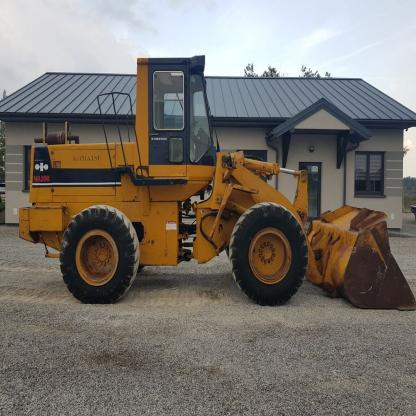bull_dozer/loader/grader: (13, 50, 416, 320)
